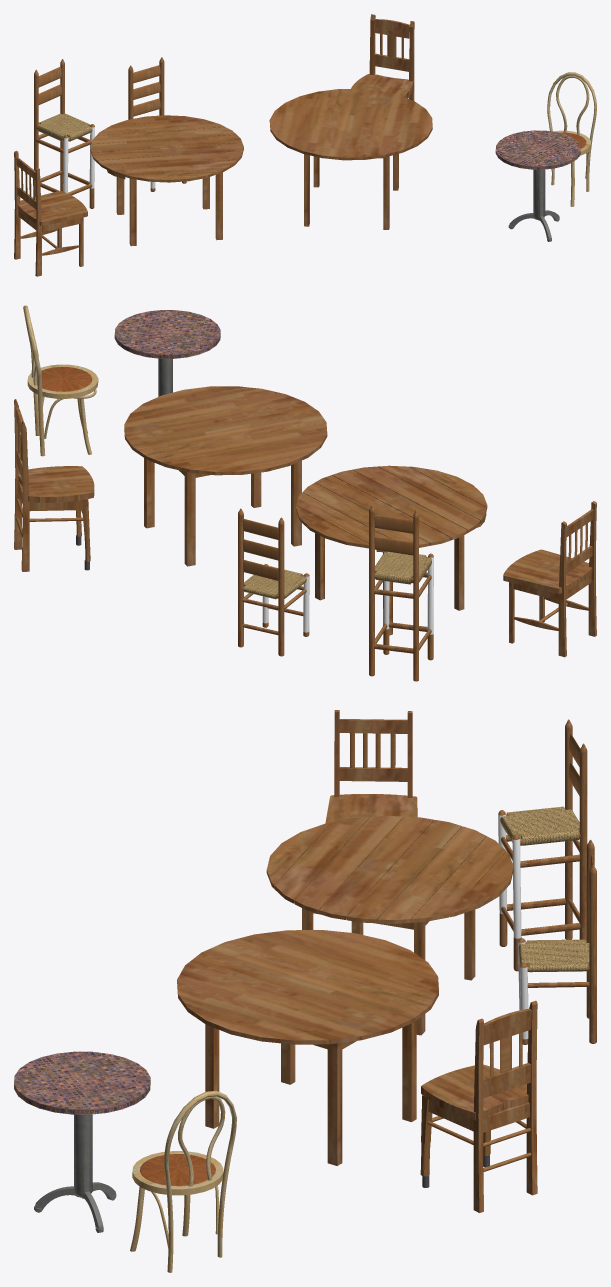
Rendered from tables&chairs.FBX.
3 views of the same model, one above another, from view 1: azimuth 30°, elevation 25°; view 2: azimuth 150°, elevation 25°; view 3: azimuth 270°, elevation 25° (orthographic). The views are drawn at different scales.
Parts seen in each view (by area): view 1: Group_110, Group_081, Group_019, Group_022, Group_069, Group_024, Group_053, Group_011, Group_016, Group_059, Group_070, Group_042 (+7 smaller); view 2: Group_110, Group_081, Group_019, Group_022, Group_053, Group_069, Group_024, Group_109, Group_007, Group_040, Group_102, Group_011 (+14 smaller); view 3: Group_110, Group_081, Group_019, Group_022, Group_053, Group_024, Group_102, Group_011, Group_069, Group_033, Group_106, Group_040 (+14 smaller).
Boxes of the visible parts, x1,y1,x2,y2 form: Group_110: (269, 88, 432, 160); Group_081: (90, 115, 243, 182); Group_019: (495, 130, 580, 169); Group_022: (34, 59, 94, 208); Group_069: (17, 191, 87, 225); Group_024: (37, 113, 91, 141); Group_053: (351, 74, 413, 97); Group_011: (547, 72, 596, 191); Group_016: (533, 169, 545, 219); Group_059: (35, 168, 41, 276); Group_070: (14, 150, 20, 259); Group_042: (374, 19, 409, 38); Group_110: (124, 386, 327, 475); Group_081: (296, 465, 487, 552); Group_019: (114, 310, 220, 358); Group_022: (369, 505, 433, 681); Group_053: (18, 466, 94, 502); Group_069: (503, 549, 592, 593); Group_024: (375, 552, 431, 584); Group_109: (184, 471, 195, 566); Group_007: (33, 367, 92, 391); Group_040: (21, 420, 29, 571); Group_102: (243, 566, 306, 599); Group_011: (23, 305, 45, 456); Group_110: (177, 930, 438, 1044); Group_081: (266, 816, 513, 929); Group_019: (14, 1051, 150, 1114); Group_022: (498, 719, 587, 971); Group_053: (421, 1064, 528, 1120); Group_024: (500, 806, 579, 845); Group_102: (519, 939, 589, 972); Group_011: (164, 1090, 236, 1272); Group_069: (325, 794, 417, 823); Group_033: (473, 1018, 483, 1212); Group_106: (327, 1042, 342, 1165); Group_040: (526, 1000, 537, 1195).
Size of the model in its own units: 192 by 49.24 by 118.
8 materials, 6 textured.
